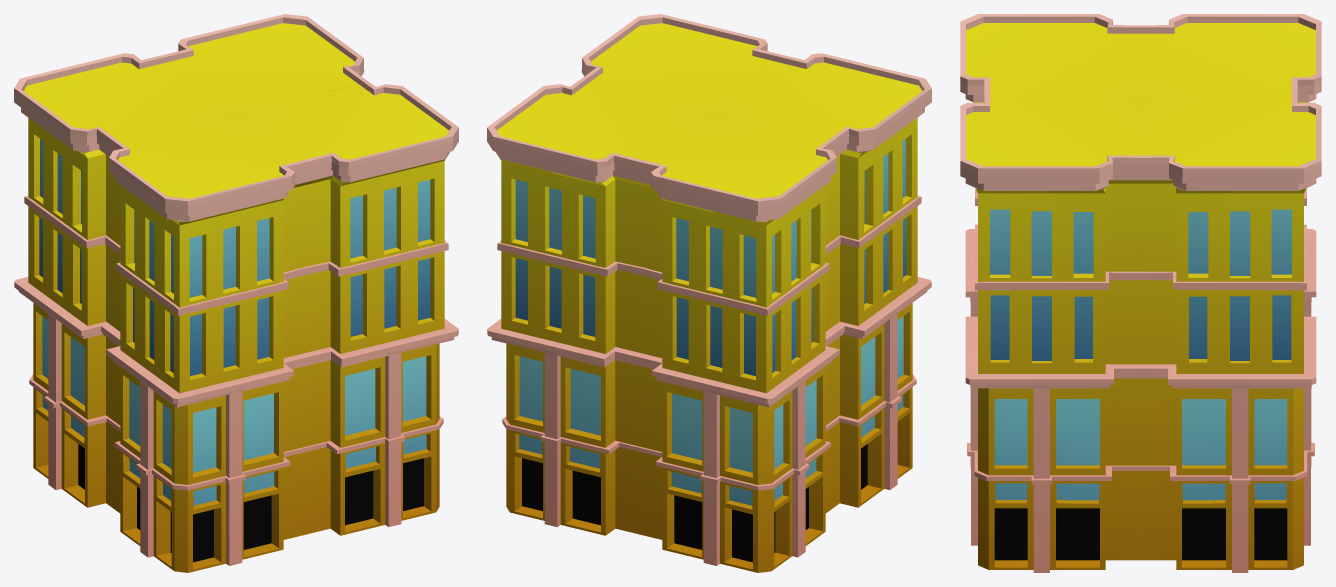
Rendered from liveBuildingYellow.fbx.
3 renders of one model, left to right at view 1: azimuth 30°, elevation 25°; view 2: azimuth 150°, elevation 25°; view 3: azimuth 270°, elevation 25°, orthographic. The views are drawn at different scales.
Visible parts, largest first — view 1: House.002; view 2: House.002; view 3: House.002.
Part boxes in pixels (x1,y1,x2,y2): House.002: [14, 14, 458, 572]; House.002: [487, 14, 931, 572]; House.002: [960, 14, 1321, 572].
Bounding box in the file's own units: 2119 × 2618 × 2098.
4 materials, 3 textured.
